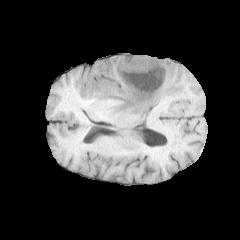glioma: (81, 55, 187, 117)
